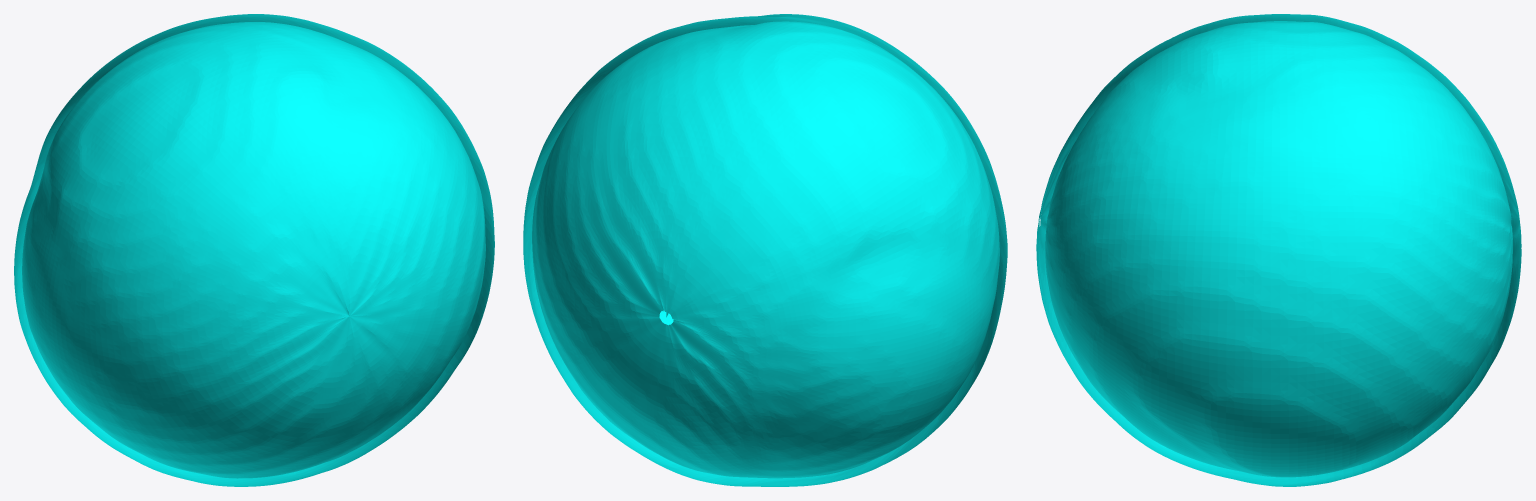
3 renders of one model, left to right at view 1: azimuth 30°, elevation 25°; view 2: azimuth 150°, elevation 25°; view 3: azimuth 270°, elevation 25°, orthographic.
Visible parts, largest first — view 1: Renderer Node; view 2: Renderer Node; view 3: Renderer Node.
Part boxes in pixels (<box>): Renderer Node: <box>14,14,494,486</box>; Renderer Node: <box>523,14,1007,486</box>; Renderer Node: <box>1036,14,1521,486</box>.
Size of the model in its own units: 3.72e+11 by 3.61e+11 by 3.7e+11.
